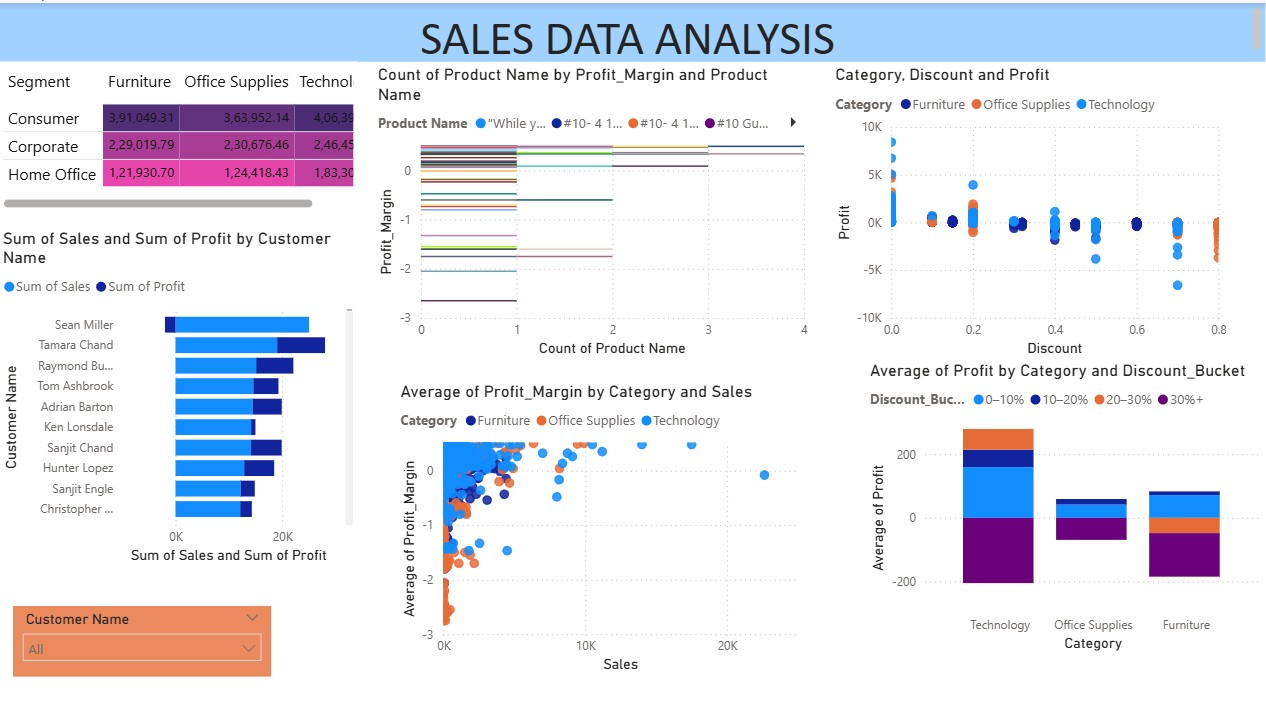

The dashboard page shown, as its layout file describes it:
{"tool":"powerbi","page":{"name":"Page 2","canvas":[1280,720],"ordinal":1},"visuals":[{"type":"textbox","box":[0,0,1279.5,59.1],"z":0},{"type":"pivotTable","fields":{"Rows":["DV+Sales+Data (1).Segment"],"Columns":["DV+Sales+Data (1).Category"],"Values":["Sum(DV+Sales+Data (1).Sales)"]},"box":[0,59.1,363.4,152.9],"z":1000},{"type":"barChart","fields":{"Category":["DV+Sales+Data (1).Customer Name"],"Y":["Sum(DV+Sales+Data (1).Sales)","Sum(DV+Sales+Data (1).Profit)"]},"box":[0,227.1,363.4,342.2],"z":2000},{"type":"slicer","fields":{"Values":["DV+Sales+Data (1).Customer Name"]},"box":[15.1,608.7,260.4,71.2],"z":3000},{"type":"barChart","fields":{"Category":["DV+Sales+Data (1).Profit_Margin"],"Y":["Count(DV+Sales+Data (1).Product Name)"],"Series":["DV+Sales+Data (1).Product Name"]},"box":[378.6,62.1,443.7,298.3],"z":4000},{"type":"scatterChart","fields":{"X":["DV+Sales+Data (1).Sales"],"Y":["Avg(DV+Sales+Data (1).Profit_Margin)"],"Series":["DV+Sales+Data (1).Category"]},"box":[401.3,381.6,420.9,298.3],"z":5000},{"type":"scatterChart","fields":{"X":["DV+Sales+Data (1).Discount"],"Y":["DV+Sales+Data (1).Profit"],"Series":["DV+Sales+Data (1).Category"]},"box":[840.4,62.1,404.3,298.3],"z":6000},{"type":"columnChart","fields":{"Series":["DV+Sales+Data (1).Discount_Bucket"],"Category":["DV+Sales+Data (1).Category"],"Y":["Avg(DV+Sales+Data (1).Profit)"]},"box":[875.2,360.4,404.3,298.3],"z":7000}]}

Visuals, with their boxes in screenshot pixels (x1, y1, x2, y2), scaled from the page's 1280x720 canvas onto the 1266x712 screenshot:
textbox: [0,0,1265,58]
pivotTable - DV+Sales+Data (1).Segment x DV+Sales+Data (1).Category: [0,58,359,210]
barChart - DV+Sales+Data (1).Customer Name x Sum(DV+Sales+Data (1).Sales): [0,225,359,563]
slicer - DV+Sales+Data (1).Customer Name: [15,602,272,672]
barChart - DV+Sales+Data (1).Profit_Margin x Count(DV+Sales+Data (1).Product Name): [374,61,813,356]
scatterChart - DV+Sales+Data (1).Sales x Avg(DV+Sales+Data (1).Profit_Margin): [397,377,813,672]
scatterChart - DV+Sales+Data (1).Discount x DV+Sales+Data (1).Profit: [831,61,1231,356]
columnChart - DV+Sales+Data (1).Discount_Bucket x DV+Sales+Data (1).Category: [866,356,1265,651]
